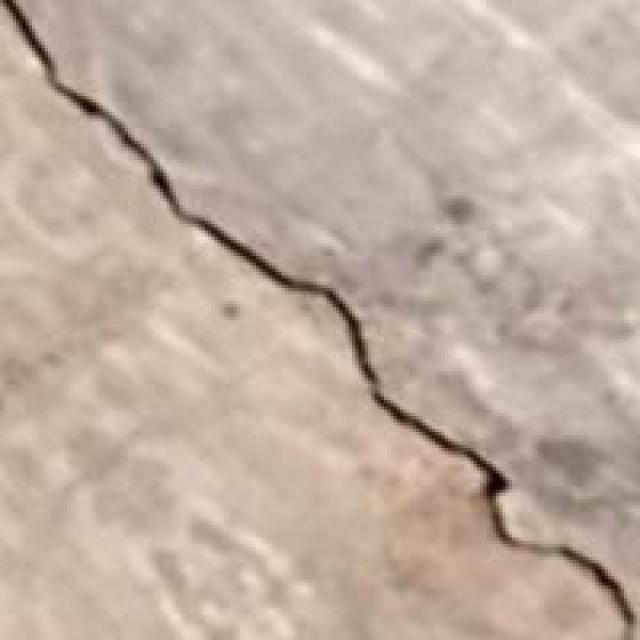Crack: (3, 0, 637, 637)
